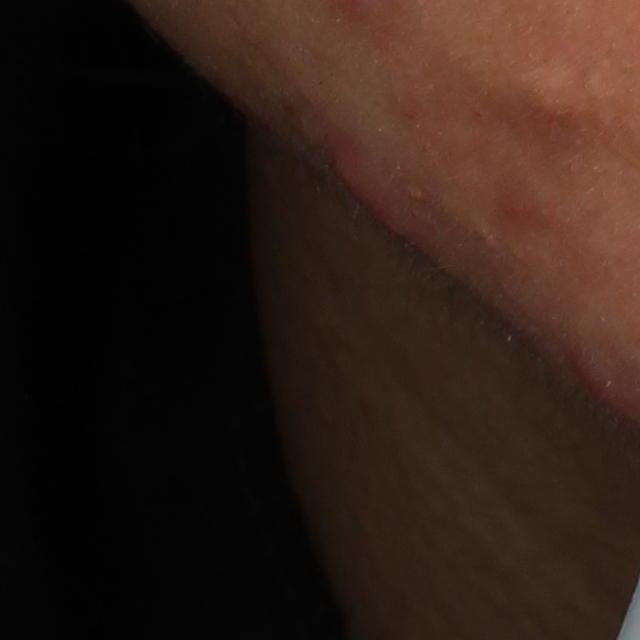hypertrophic_scar: (511, 64, 585, 132)
papule: (324, 141, 434, 260)
